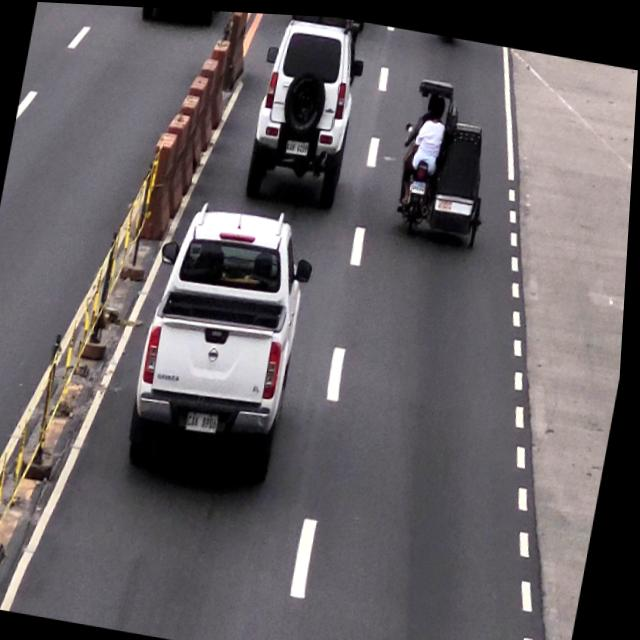Car: (130, 199, 315, 482), (245, 10, 365, 202)
License-Plate: (188, 407, 224, 431), (284, 133, 311, 155), (409, 175, 429, 191)
Tricycle: (392, 72, 502, 238)
